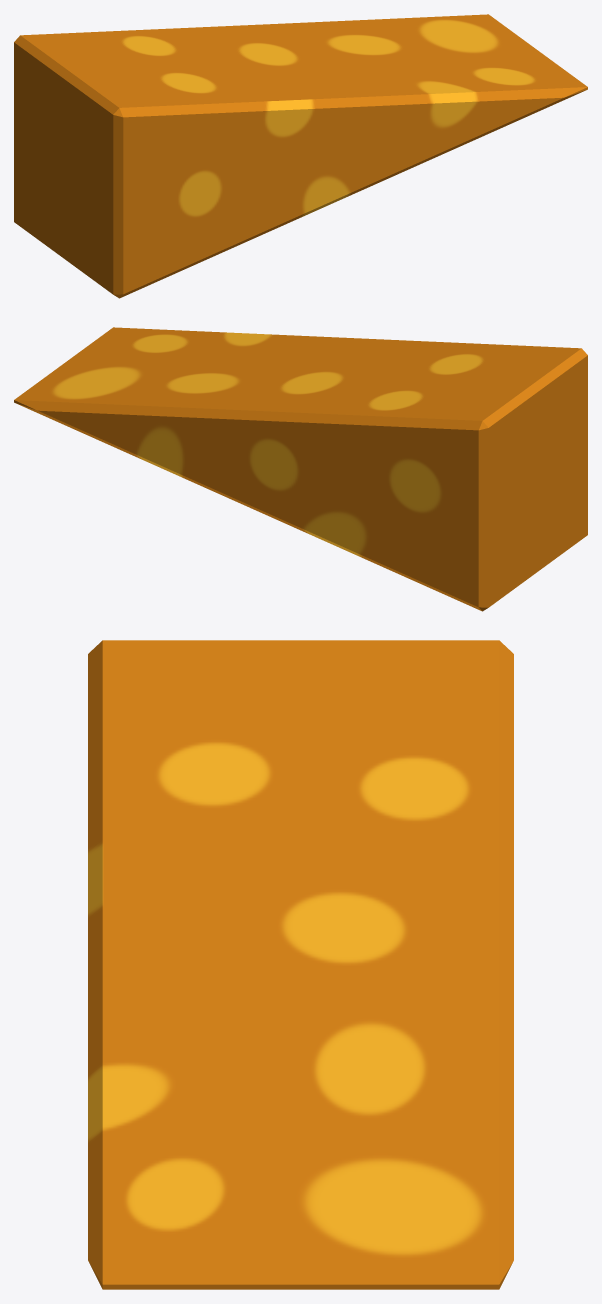
Rendered from cheese.fbx.
3 renders of one model, top to bottom at view 1: azimuth 30°, elevation 25°; view 2: azimuth 150°, elevation 25°; view 3: azimuth 270°, elevation 25°, orthographic. The views are drawn at different scales.
Visible parts, largest first — view 1: Cube; view 2: Cube; view 3: Cube.
Part boxes in pixels (bbox=[...]): Cube: bbox=[14, 14, 587, 298]; Cube: bbox=[14, 327, 587, 611]; Cube: bbox=[88, 640, 513, 1289].
Bounding box in the file's own units: 632 × 243 × 246.
1 material, 1 textured.
